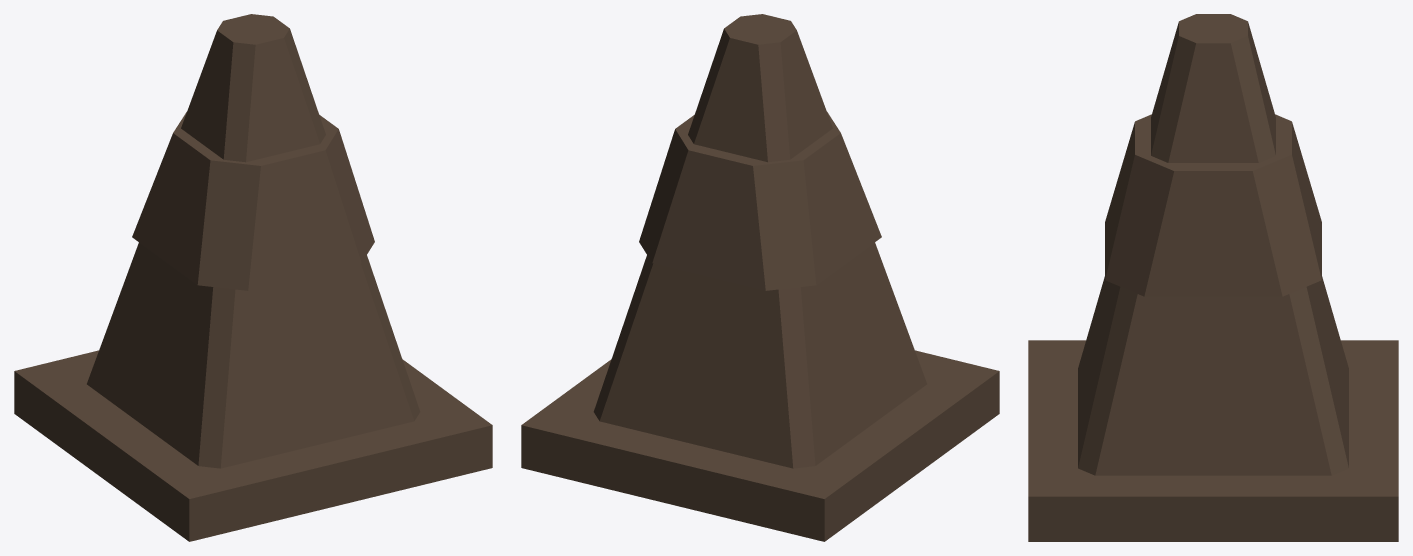
Rendered from TrafficCone.fbx.
The picture shows the model from 3 angles, left to right: view 1: azimuth 30°, elevation 25°; view 2: azimuth 150°, elevation 25°; view 3: azimuth 270°, elevation 25°; orthographic projection. The views are drawn at different scales.
Visible parts, largest first — view 1: polySurface13, polySurface14; view 2: polySurface13, polySurface14; view 3: polySurface13, polySurface14.
Boxes of the visible parts, box(x1,y1,x2,y2) form: polySurface13: box(14, 14, 492, 541); polySurface14: box(132, 112, 374, 290); polySurface13: box(521, 14, 999, 541); polySurface14: box(639, 112, 881, 290); polySurface13: box(1028, 14, 1398, 541); polySurface14: box(1105, 114, 1321, 296).
Size of the model in its own units: 1.48 by 1.92 by 1.48.
